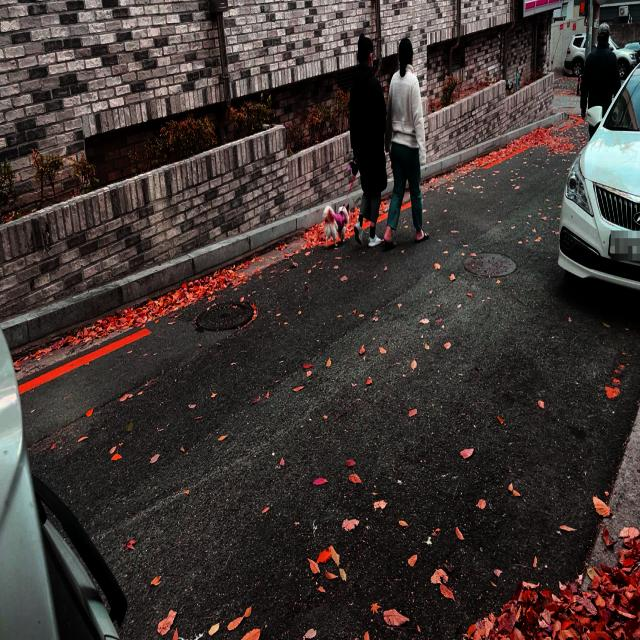Leashed_Dog: (322, 140, 372, 249)
